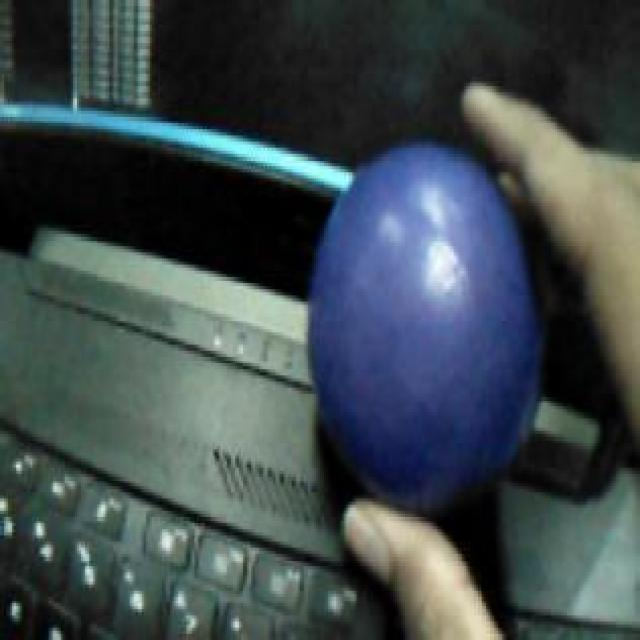BallPurple: (307, 141, 541, 516)
